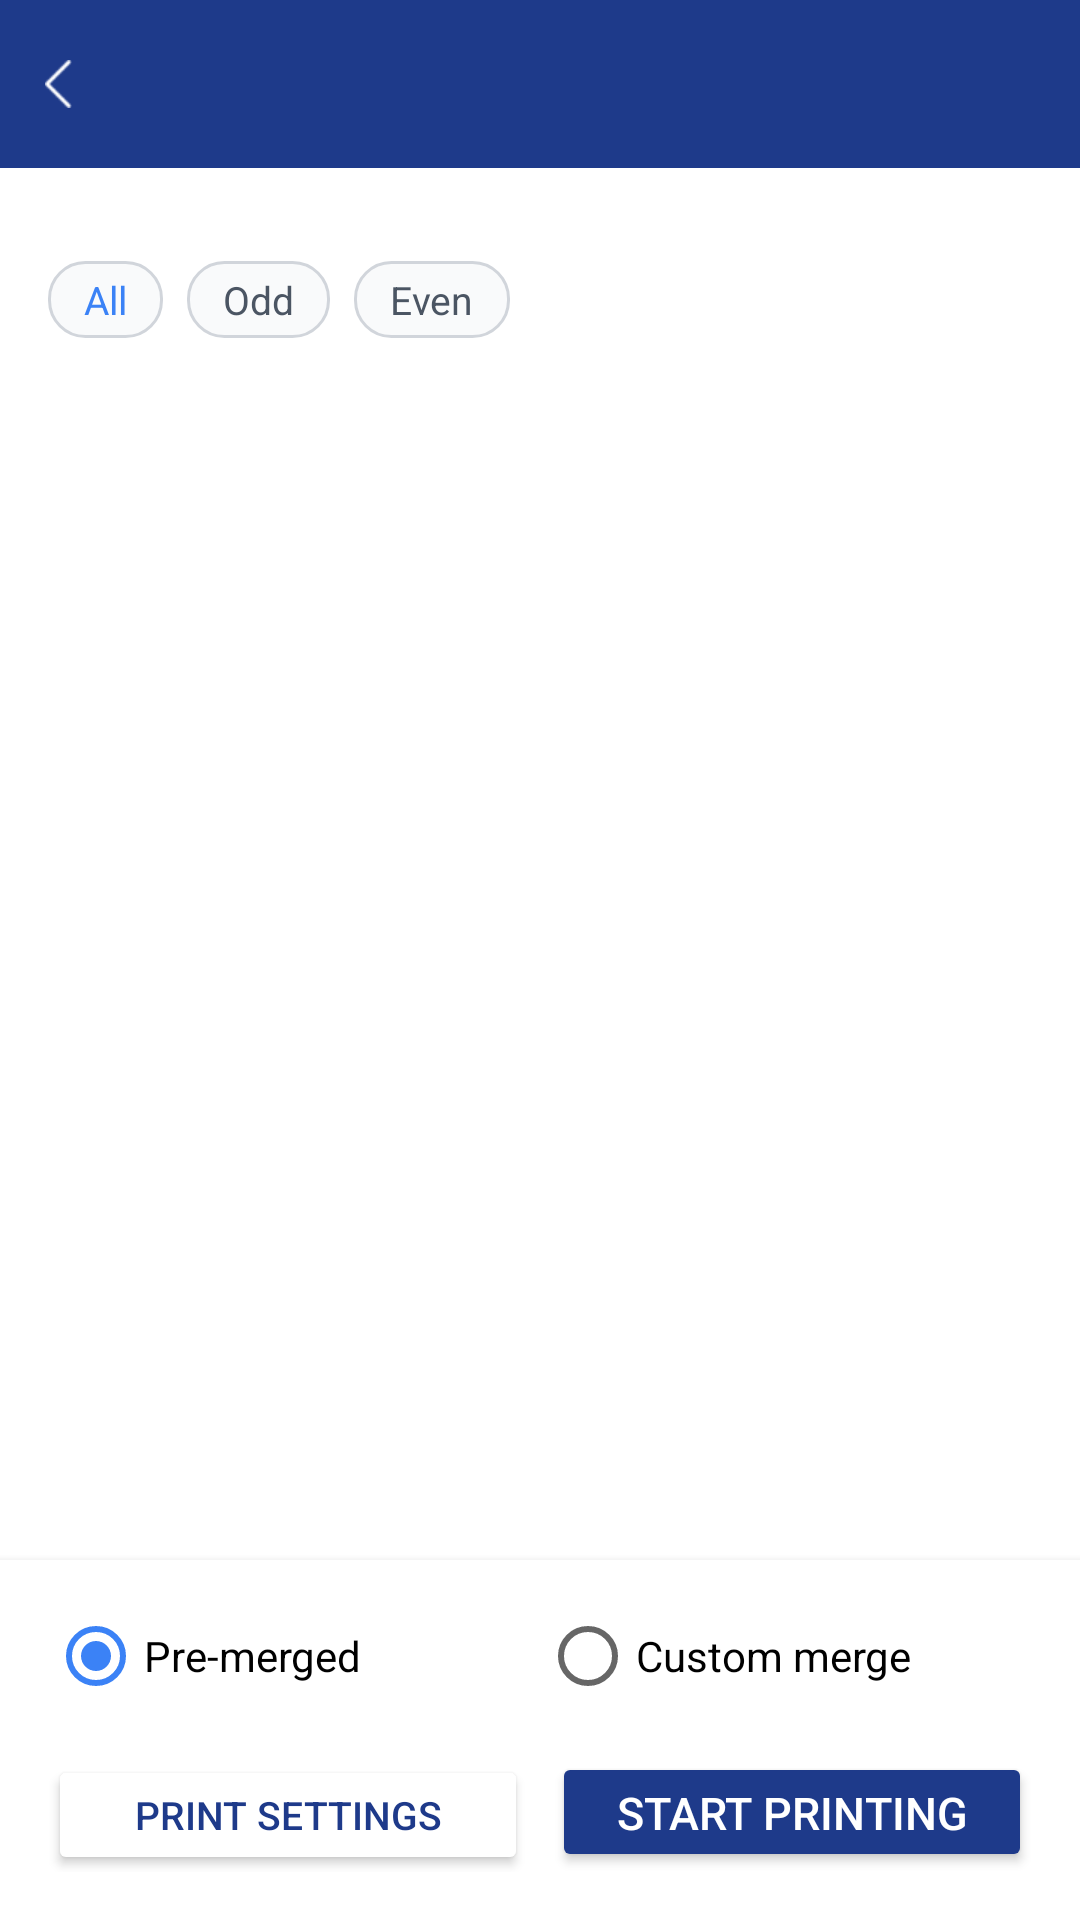

Icon bounding boxes for this 1080w x 1920h phone screenshot, format (x1, y1, x2, y2):
back: (45, 60, 72, 108)
